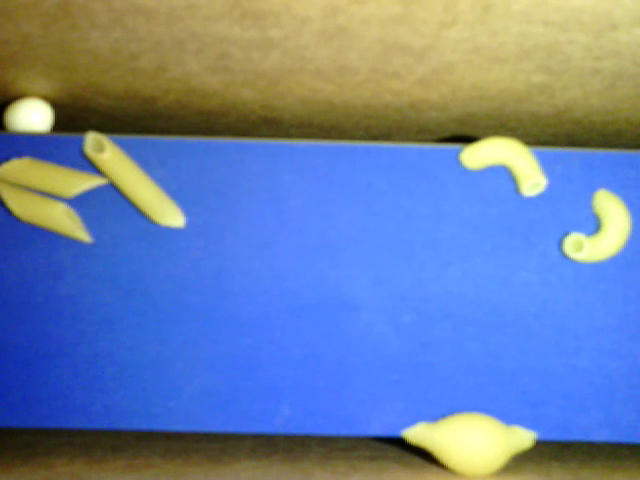elbow: (459, 136, 547, 197), (561, 188, 632, 262)
penne: (80, 129, 187, 229), (1, 181, 95, 244), (1, 155, 109, 199)
shell: (400, 410, 536, 475)
